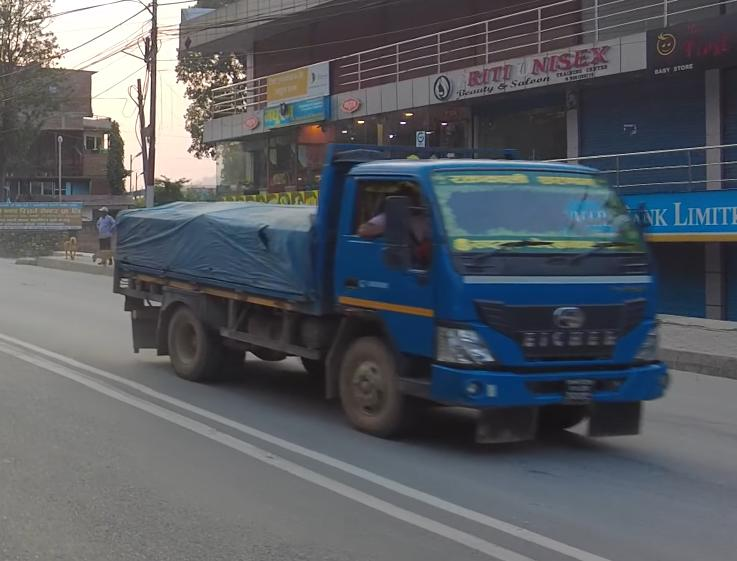mini_truck: (107, 144, 667, 457)
